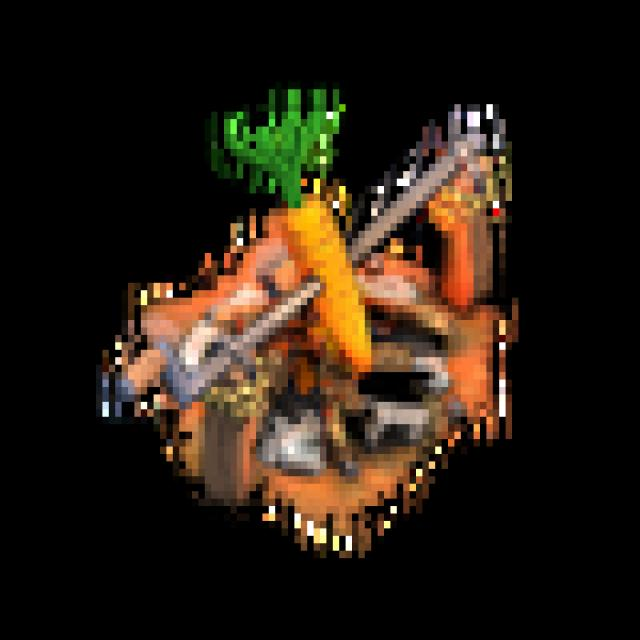army_camp: (72, 66, 550, 568)
